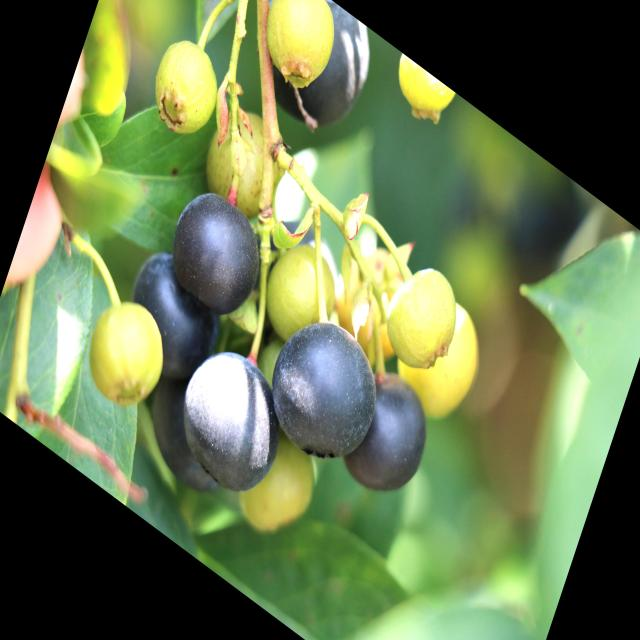blueberry: (250, 284, 394, 498), (163, 328, 304, 522), (240, 0, 390, 169), (330, 349, 449, 532), (112, 234, 234, 406), (157, 168, 277, 339)
blueberry-unripe: (394, 278, 490, 432), (81, 282, 176, 422), (375, 247, 463, 385), (203, 95, 293, 229), (256, 229, 344, 364), (143, 25, 225, 147), (253, 0, 344, 101), (386, 52, 456, 134)
